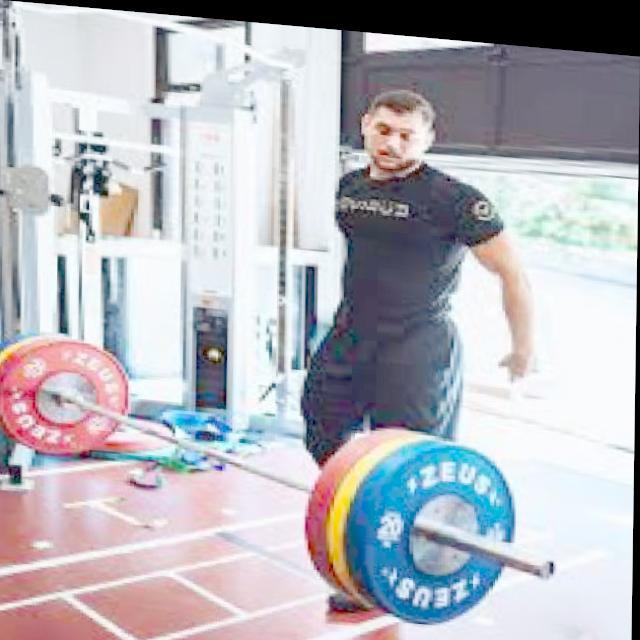barbell: (356, 425, 567, 634)
